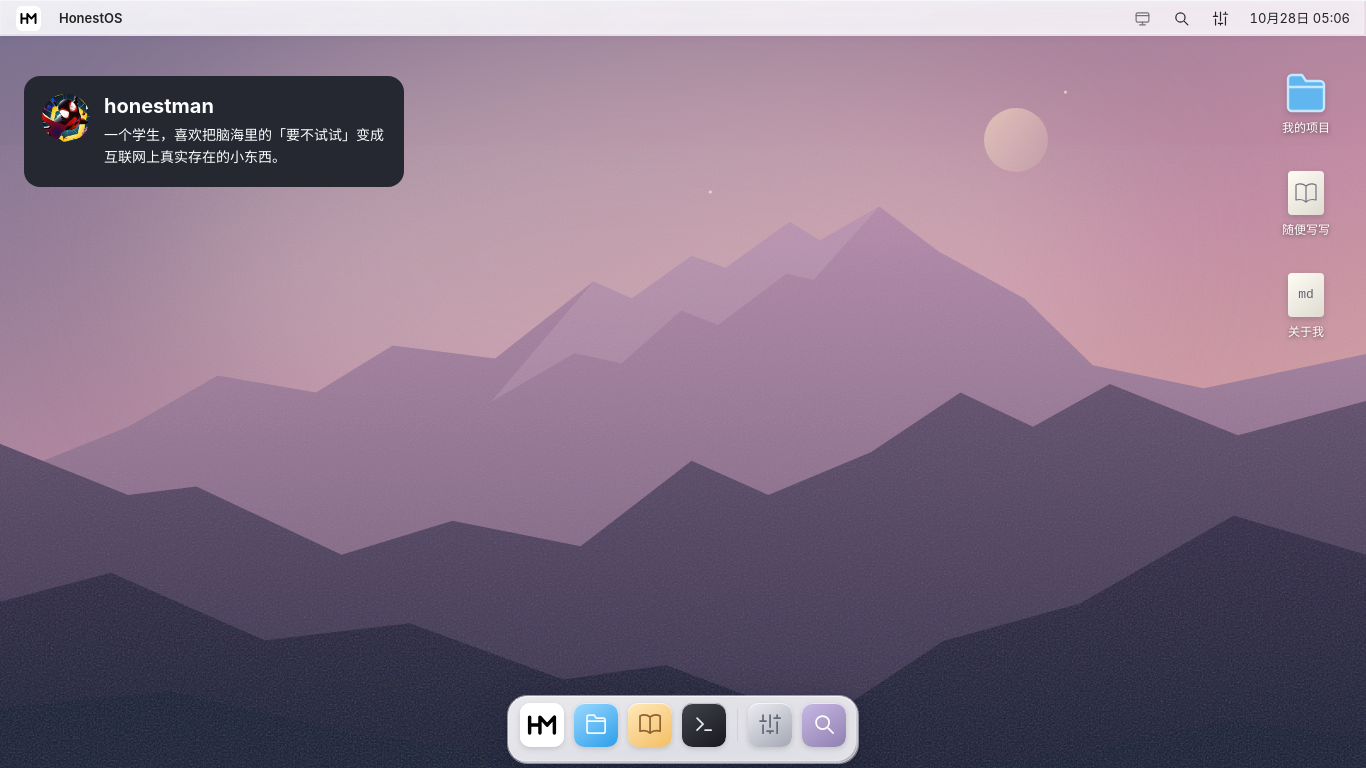
Test: keeps current choices working and explains when the browser cannot save preferences
Click the button named "控制中心".
click(1220, 18)  # box [1202,3,1238,33]
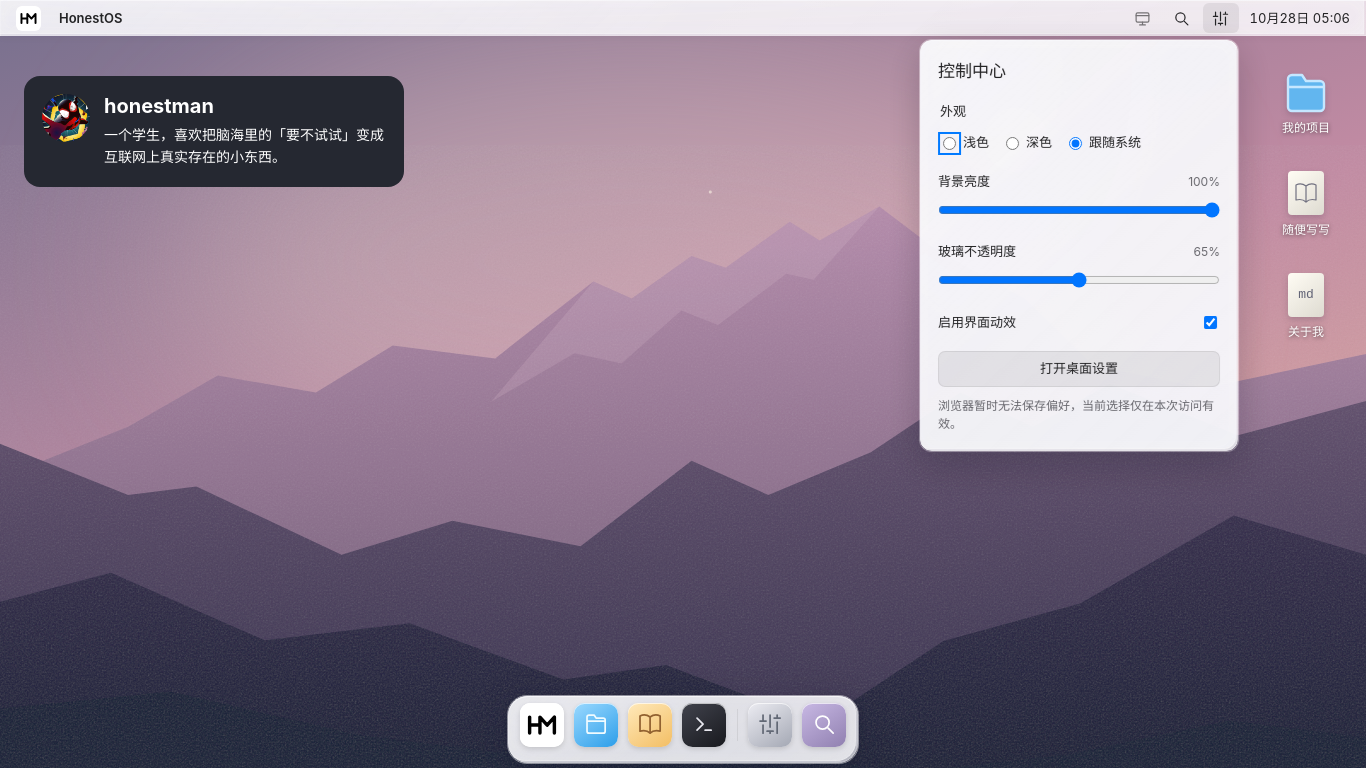
Click the radio button labelled "深色".
click(1012, 144)  # box [1006,137,1019,150]
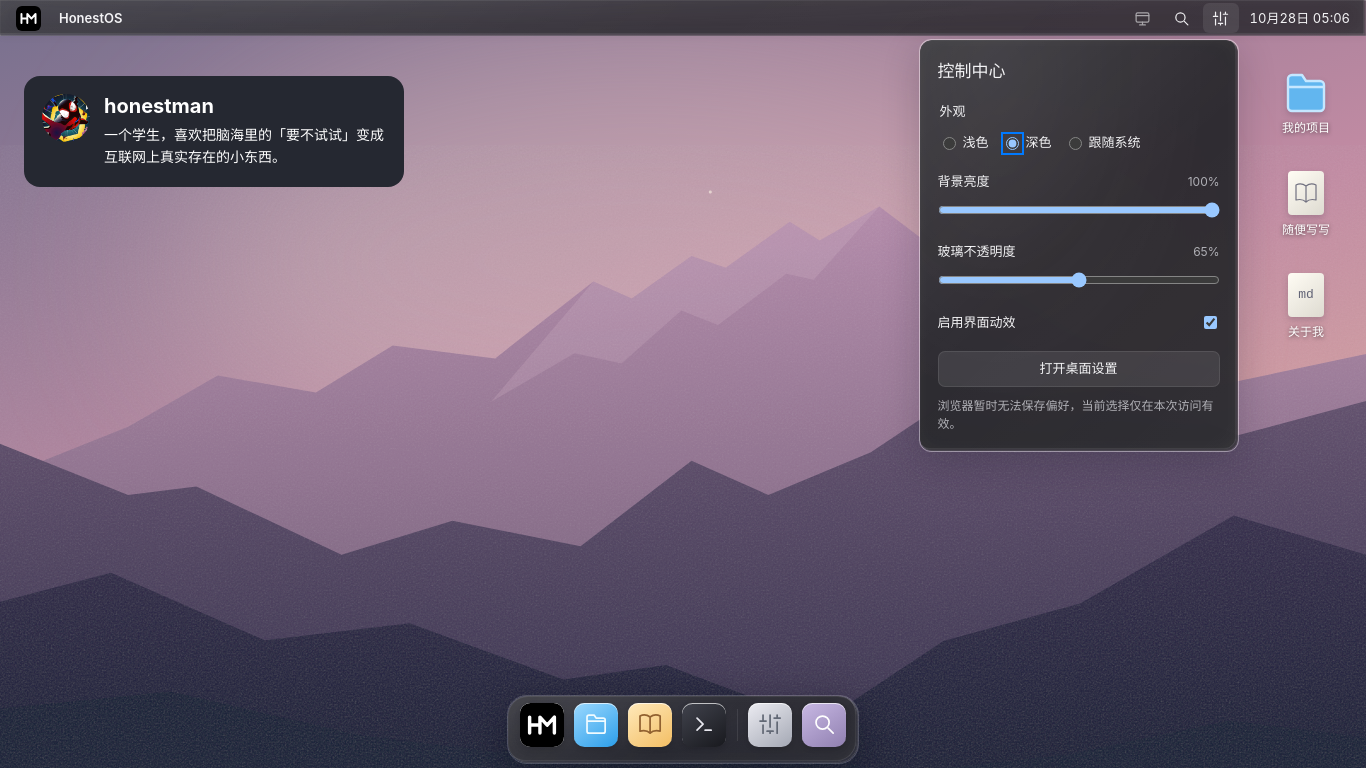
Set the slider labelled "背景亮度 100%" to "60" at [1060, 210], box [938,202,1220,218]
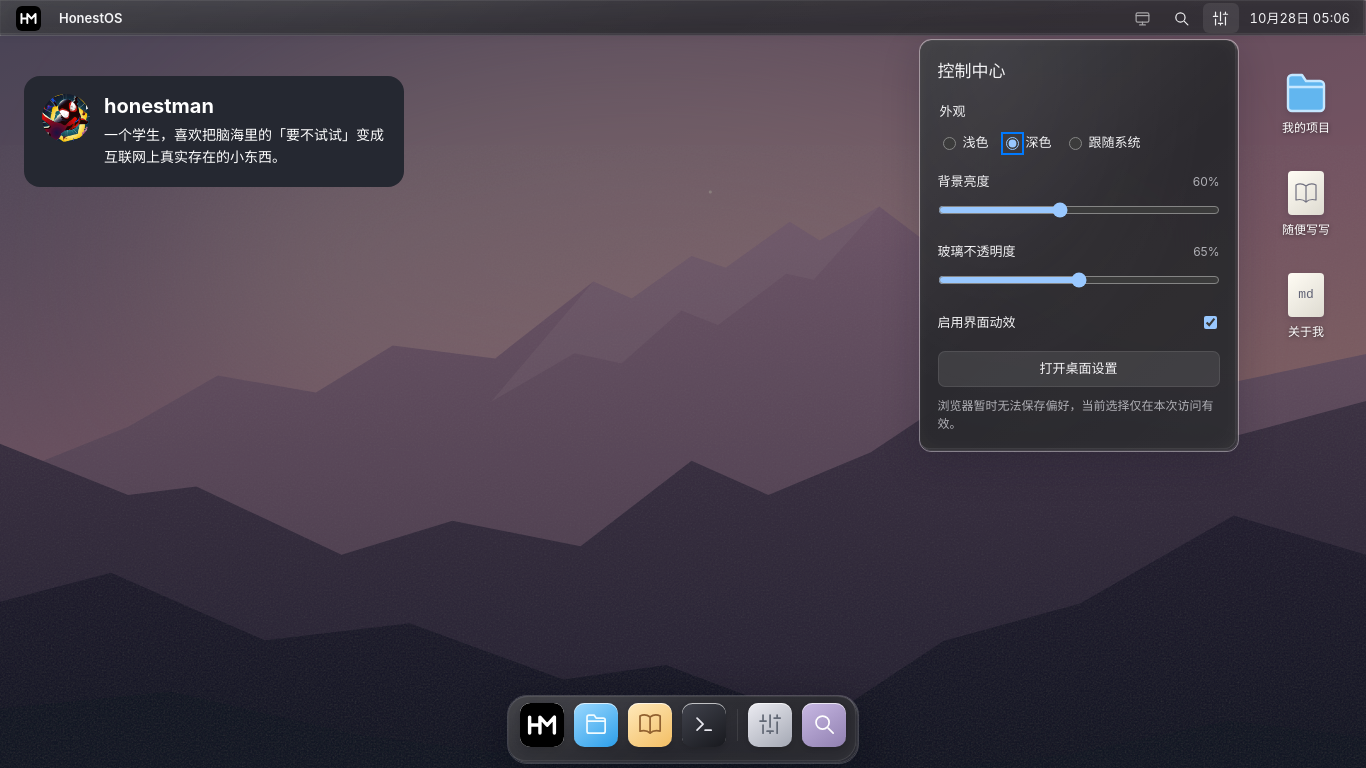
Expected: the text "浏览器暂时无法保存偏好，当前选择仅在本次访问有效。" is shown, [938,397,1220,433]
Press Escape
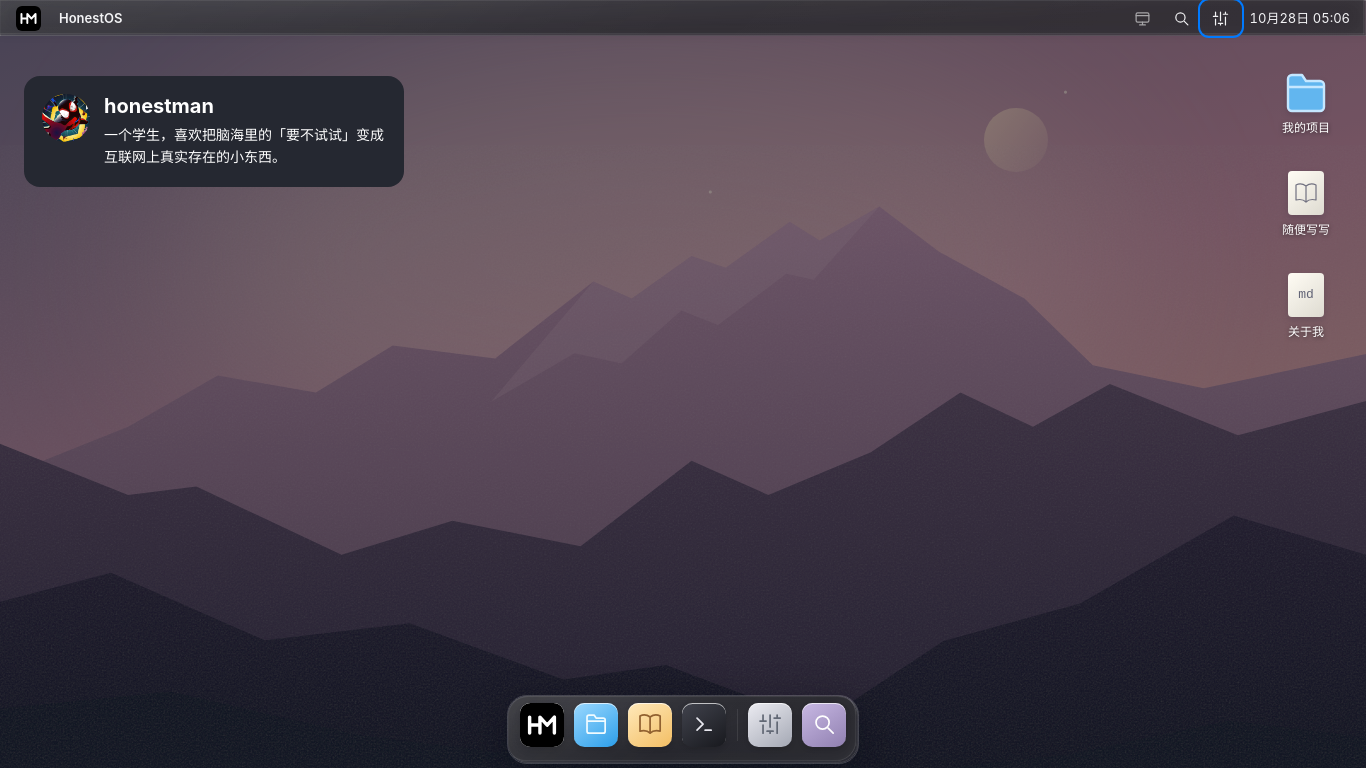
Click the button named "控制中心".
click(1220, 18)  # box [1202,3,1238,33]
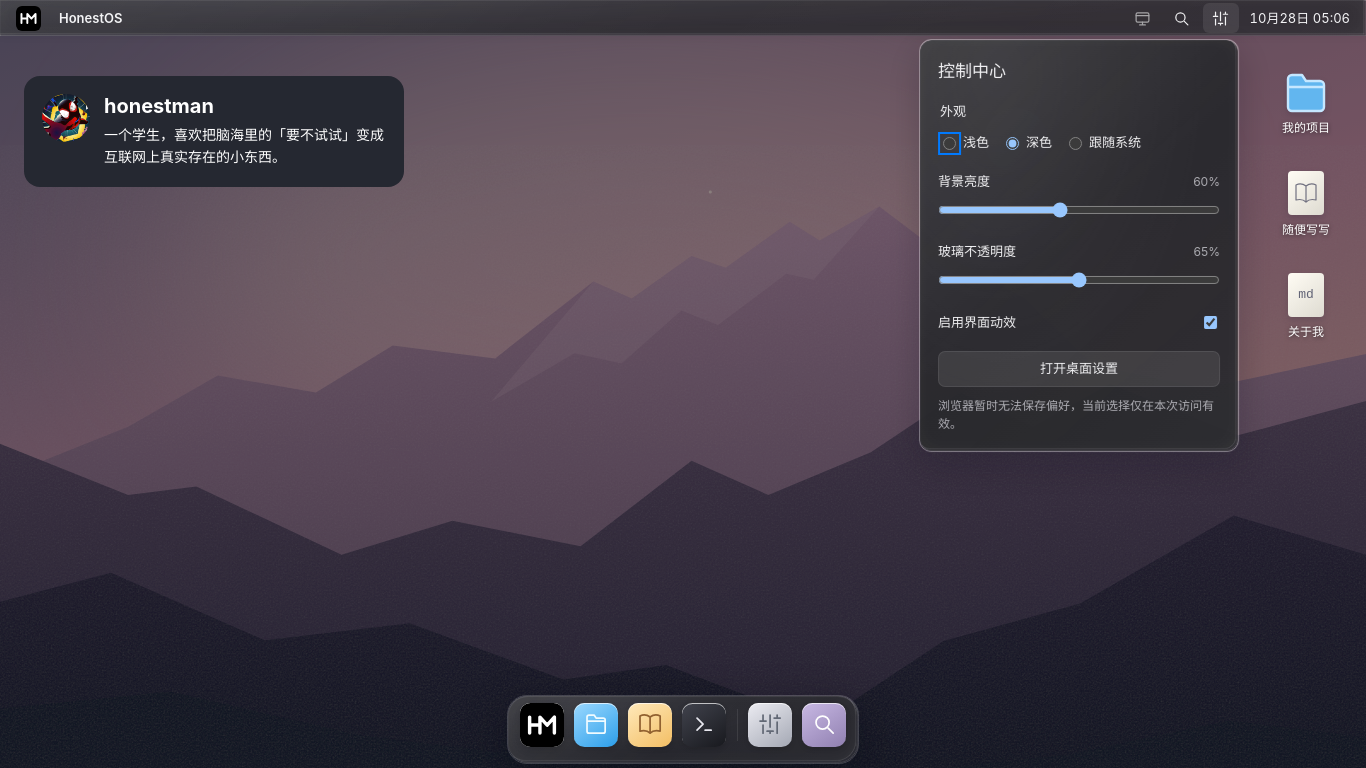
Expected: the radio button labelled "深色" is checked, [1006,137,1019,150]
Expected: the slider labelled "背景亮度 60%" holds "60", [938,202,1220,218]
Click the button "打开桌面设置".
click(1079, 369)  # box [938,351,1220,387]
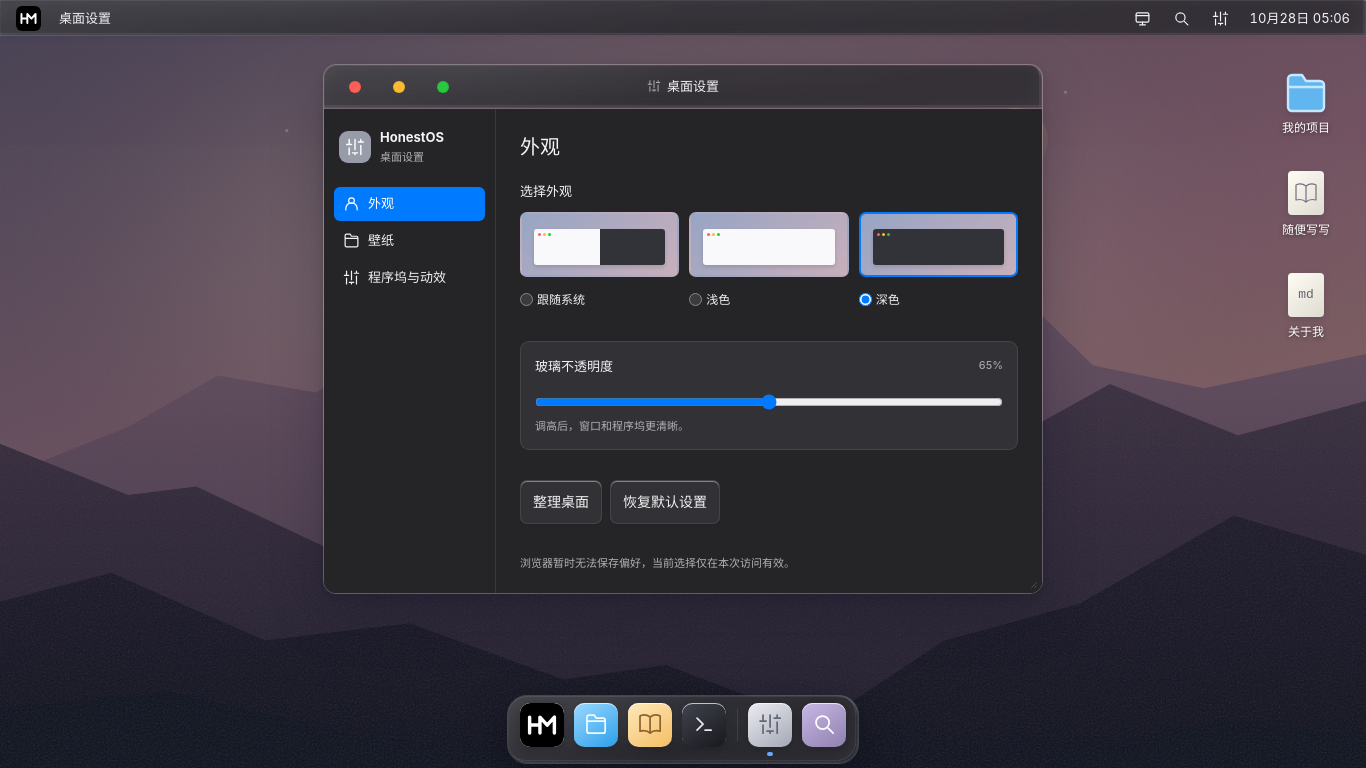
Expected: the radio button labelled "深色" is checked, [859,293,872,306]
